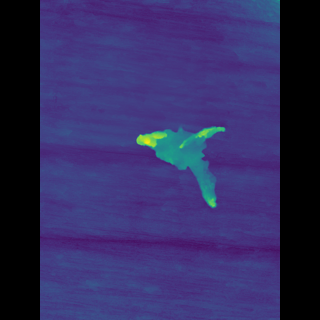Loch: (140, 121, 210, 210)
